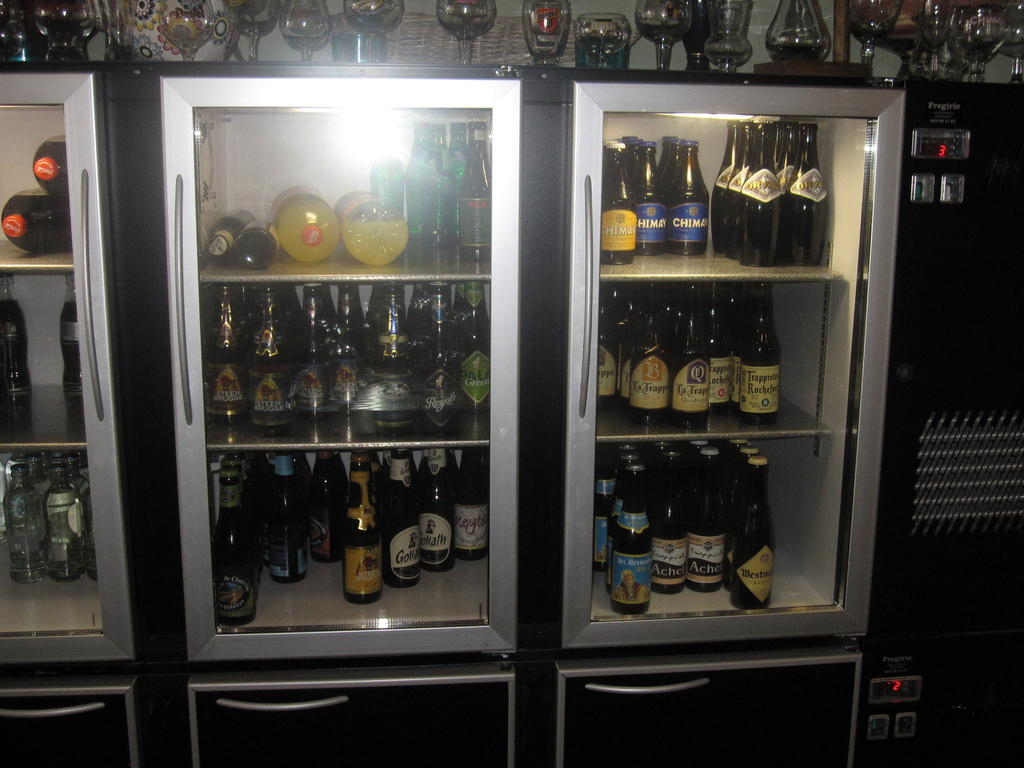cabinet door: (565, 669, 856, 768), (189, 685, 510, 768), (1, 693, 134, 763)
handle: (168, 179, 200, 417), (78, 173, 107, 418), (579, 174, 598, 413), (218, 689, 350, 720), (582, 679, 710, 706), (3, 697, 110, 724)
refrigerator door: (164, 80, 508, 643), (574, 89, 866, 625), (10, 82, 118, 651)
